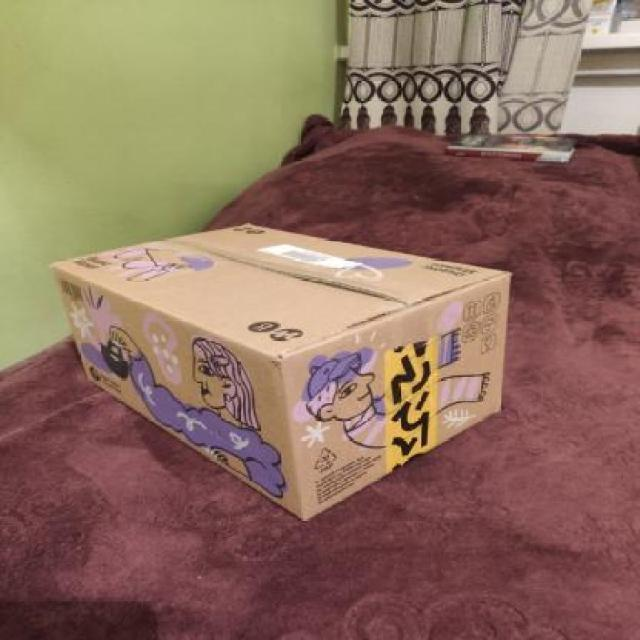box: (53, 219, 519, 525)
